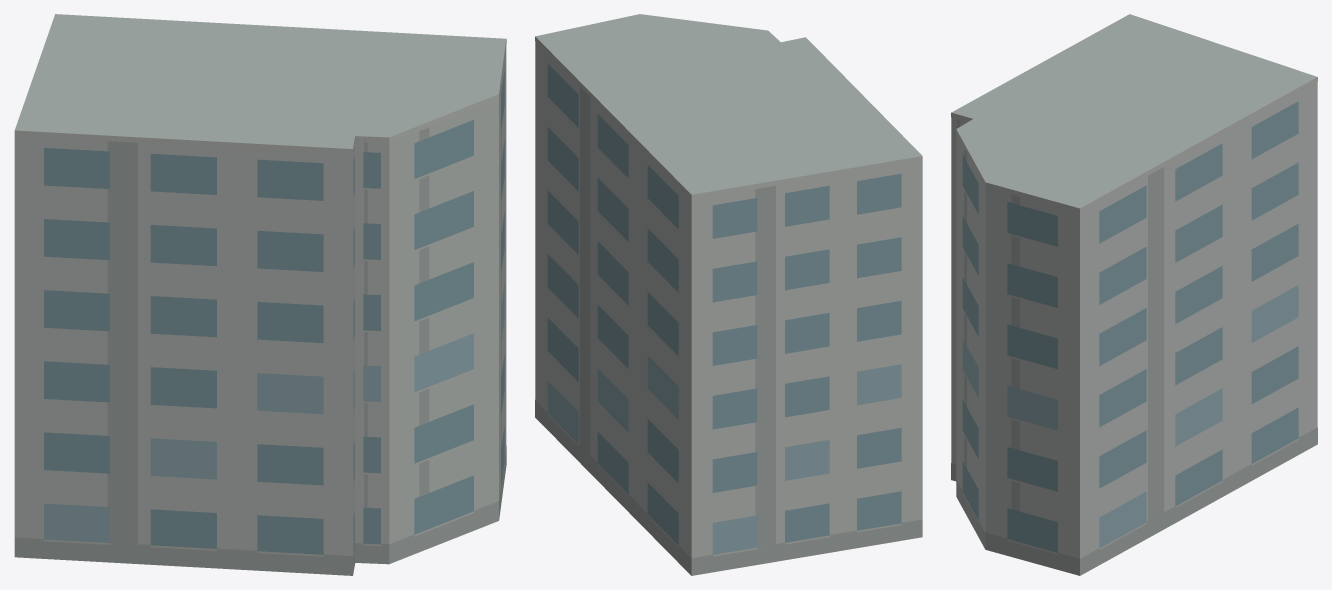
File: survey-upis-32805684.glb
The picture shows the model from 3 angles, left to right: view 1: azimuth 30°, elevation 25°; view 2: azimuth 150°, elevation 25°; view 3: azimuth 270°, elevation 25°; orthographic projection. The views are drawn at different scales.
Parts seen in each view (by area): view 1: survey-upis-32805684.tmp; view 2: survey-upis-32805684.tmp; view 3: survey-upis-32805684.tmp.
Boxes of the visible parts, left/top/right/bottom form: survey-upis-32805684.tmp: left=14, top=14, right=506, bottom=575; survey-upis-32805684.tmp: left=535, top=14, right=922, bottom=575; survey-upis-32805684.tmp: left=951, top=14, right=1317, bottom=575.
Bounding box in the file's own units: 20.78 × 18.3 × 16.55.
